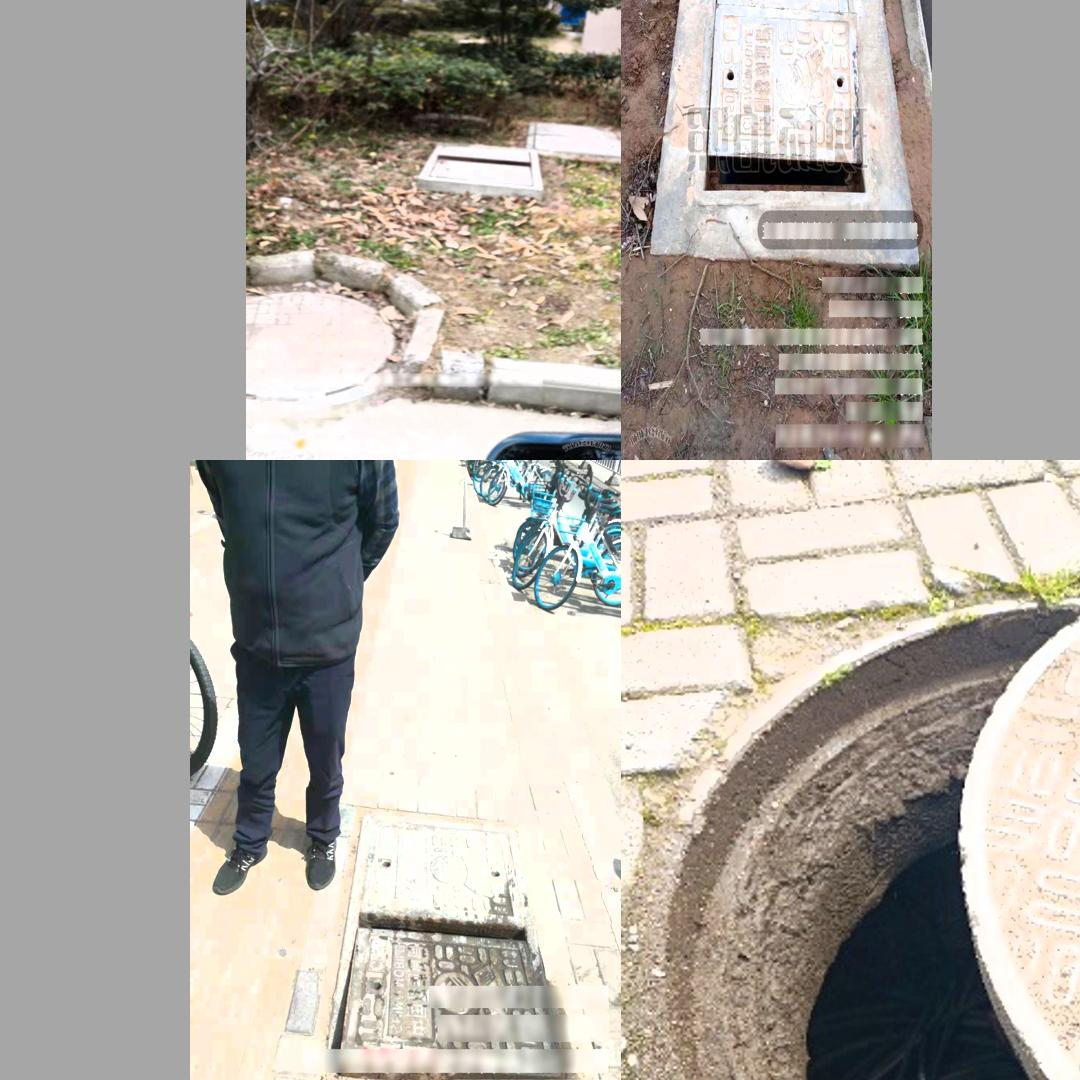good: (248, 289, 409, 404), (524, 117, 621, 166)
uncovered: (662, 561, 1080, 1080), (321, 814, 568, 1080), (693, 0, 866, 207), (415, 140, 543, 193)
